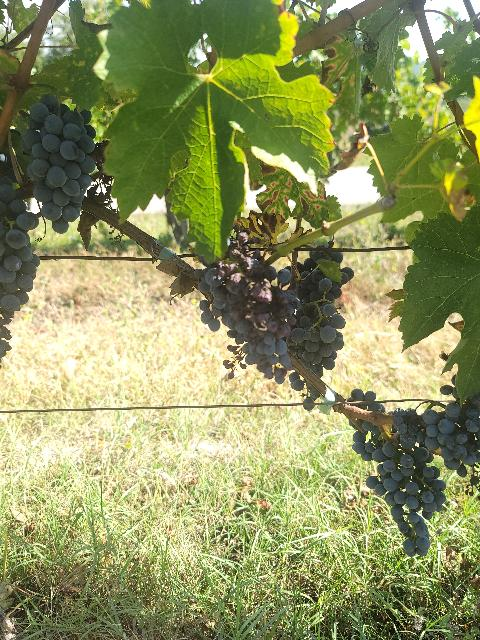grapes: (199, 224, 300, 384), (21, 94, 96, 232), (366, 455, 445, 556), (0, 176, 40, 362), (422, 402, 479, 476), (289, 314, 345, 378), (298, 258, 341, 319), (341, 268, 354, 282)
